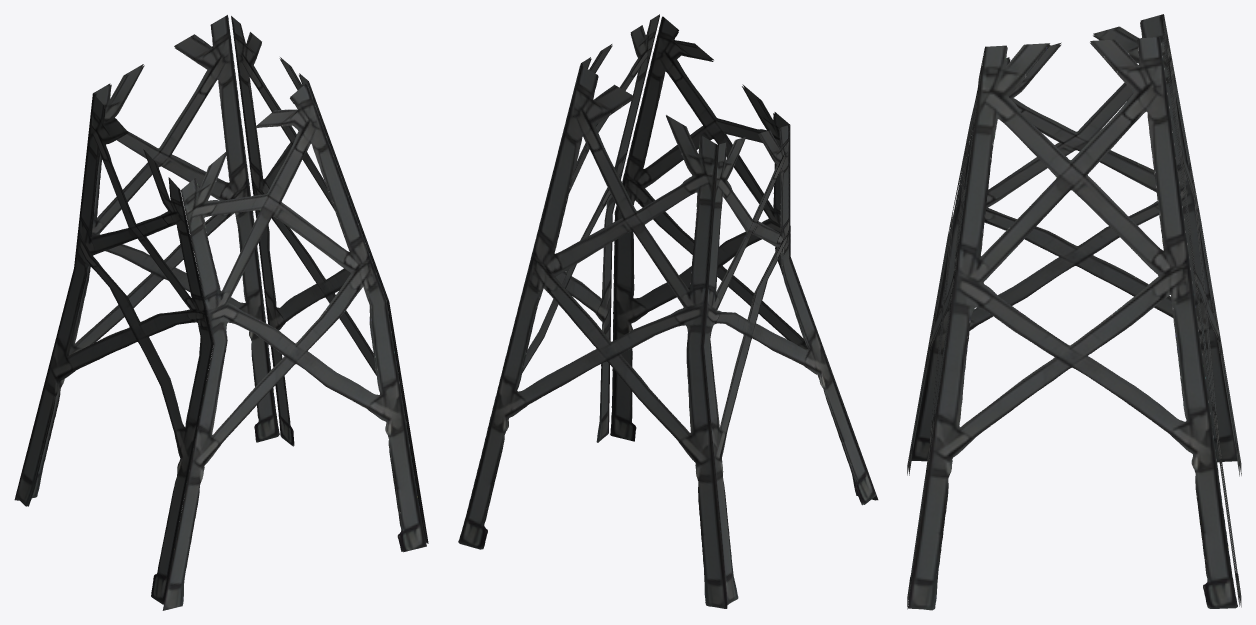
File: oilrigburn.gltf
3 views of the same model, side by side, from view 1: azimuth 30°, elevation 25°; view 2: azimuth 150°, elevation 25°; view 3: azimuth 270°, elevation 25° (orthographic). The views are drawn at different scales.
Parts seen in each view (by area): view 1: oilrigburn_atomic0; view 2: oilrigburn_atomic0; view 3: oilrigburn_atomic0.
Part boxes in pixels (<box>): oilrigburn_atomic0: <box>14,15,428,610</box>; oilrigburn_atomic0: <box>458,14,878,608</box>; oilrigburn_atomic0: <box>907,14,1241,610</box>.
Bounding box in the file's own units: 31.23 × 52.6 × 30.22.
Materials: 1 (1 with a texture image).
